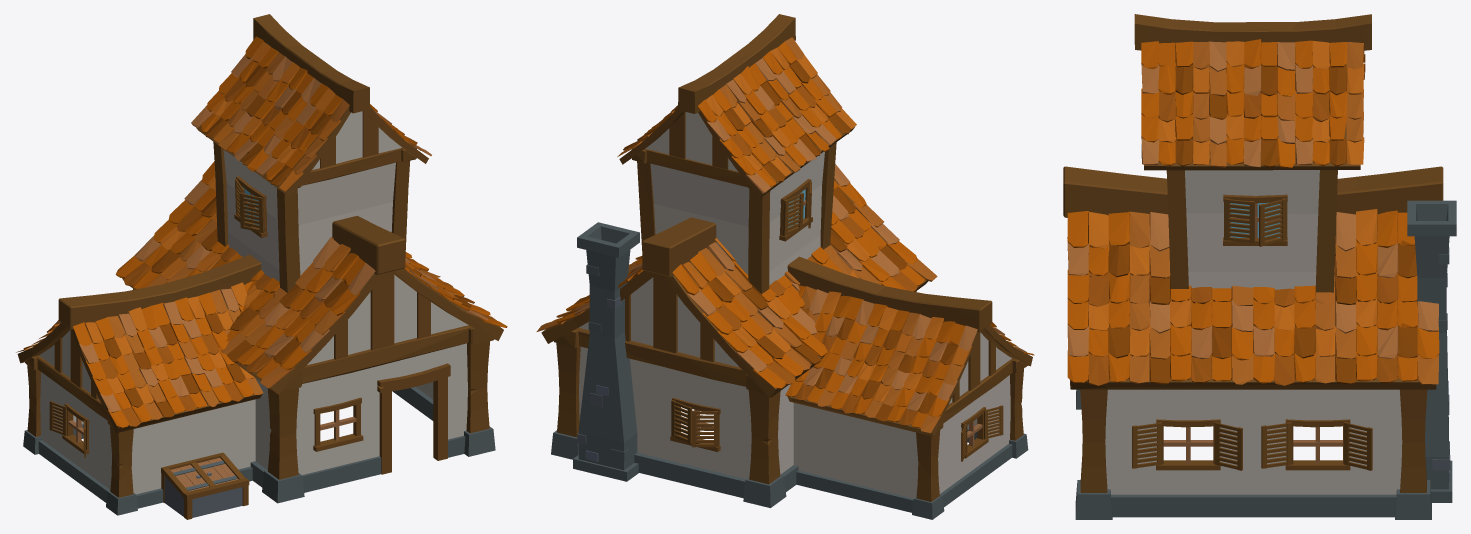
Rendered from House_05.glb.
3 renders of one model, left to right at view 1: azimuth 30°, elevation 25°; view 2: azimuth 150°, elevation 25°; view 3: azimuth 270°, elevation 25°, orthographic. The views are drawn at different scales.
Parts seen in each view (by area): view 1: House_05; view 2: House_05; view 3: House_05.
Boxes of the visible parts, box(x1,y1,x2,y2) form: House_05: box(16, 14, 507, 519); House_05: box(536, 14, 1034, 519); House_05: box(1063, 14, 1456, 519).
Bounding box in the file's own units: 8.86 × 8.47 × 6.88.
Materials: 1 (1 with a texture image).
